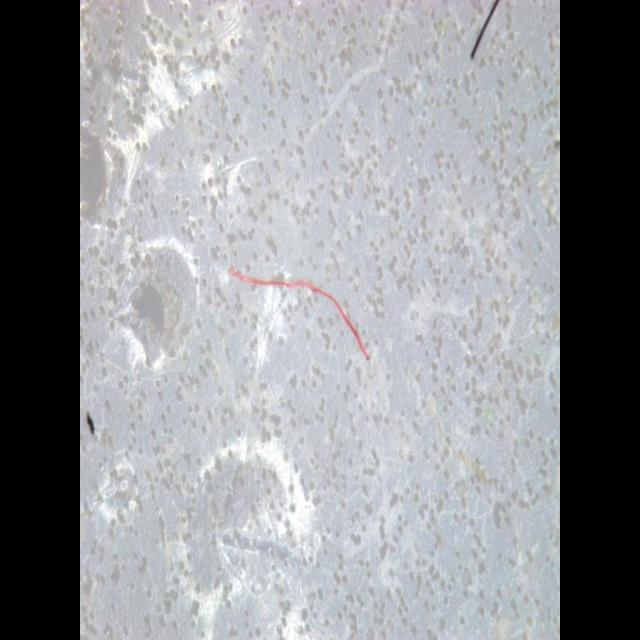Fibre: (225, 250, 379, 390)
